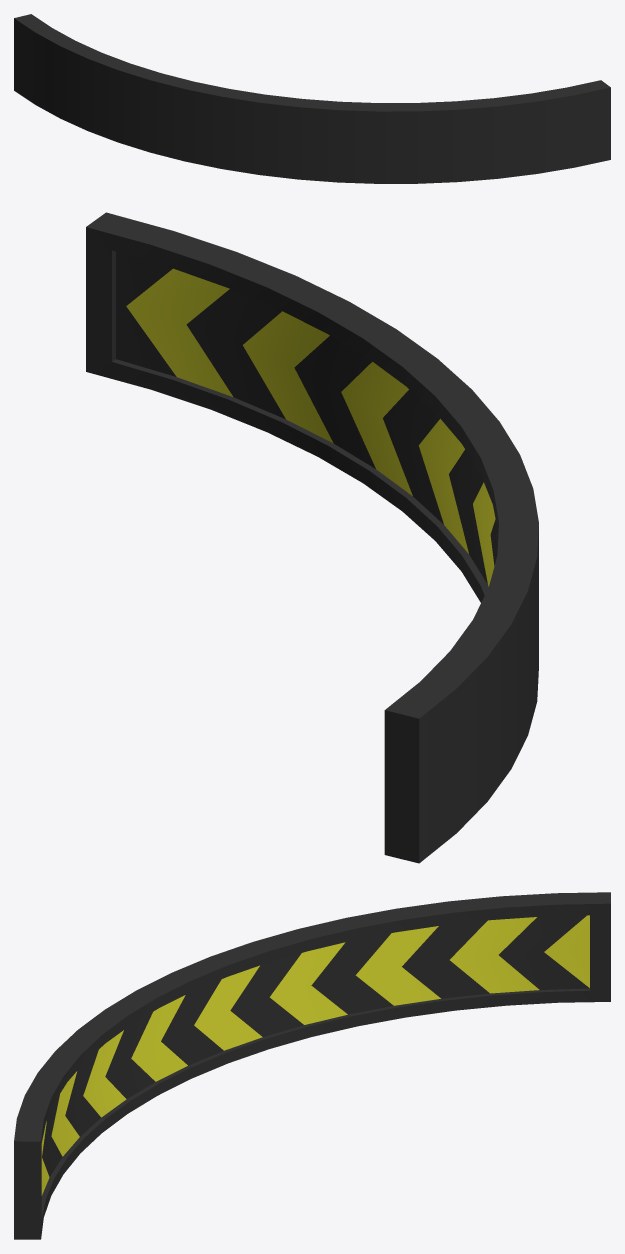
The model's file is TrackArrowPanelCurvedIn.fbx.
3 renders of one model, top to bottom at view 1: azimuth 30°, elevation 25°; view 2: azimuth 150°, elevation 25°; view 3: azimuth 270°, elevation 25°, orthographic. The views are drawn at different scales.
Visible parts, largest first — view 1: TrackArrowPanelCurvedIn; view 2: TrackArrowPanelCurvedIn; view 3: TrackArrowPanelCurvedIn.
Boxes of the visible parts, bbox=[...] form: TrackArrowPanelCurvedIn: bbox=[14, 14, 610, 183]; TrackArrowPanelCurvedIn: bbox=[86, 212, 538, 863]; TrackArrowPanelCurvedIn: bbox=[14, 892, 610, 1239].
Size of the model in its own units: 21.78 by 4 by 22.04.
